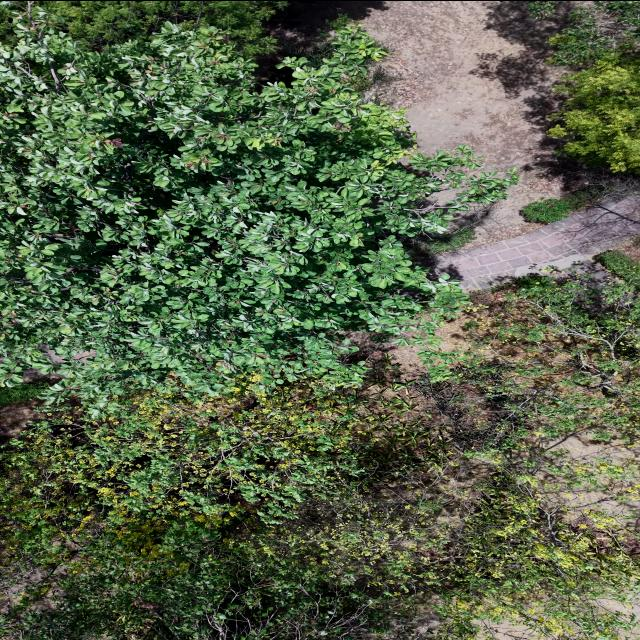DRY_AREA: (273, 1, 639, 290), (275, 1, 639, 290), (288, 1, 639, 290), (287, 1, 639, 289), (272, 1, 595, 289), (363, 1, 639, 289), (364, 1, 639, 290), (272, 1, 564, 246), (363, 1, 562, 244), (437, 199, 639, 292), (437, 199, 639, 290), (535, 463, 639, 543), (536, 467, 639, 529), (358, 337, 427, 380), (0, 398, 43, 442), (0, 399, 41, 443), (479, 622, 537, 639), (615, 238, 639, 261)
PATHWAYS: (438, 200, 639, 289)
VEGETATION_TREE: (0, 6, 639, 639), (2, 278, 637, 639), (1, 11, 514, 399), (2, 369, 636, 639), (2, 382, 450, 639), (437, 277, 639, 638), (2, 384, 374, 562), (466, 276, 639, 446), (547, 1, 639, 174), (547, 1, 639, 171), (22, 1, 285, 55), (547, 56, 639, 171), (547, 1, 639, 65), (521, 174, 639, 223), (546, 6, 636, 66), (406, 205, 490, 255), (521, 189, 599, 223), (594, 250, 639, 283), (424, 226, 475, 253), (0, 381, 47, 404), (527, 1, 554, 18)
